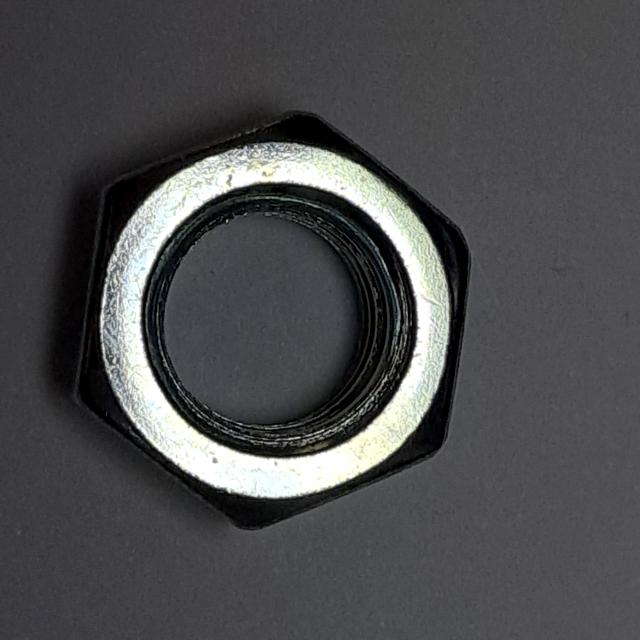Excellent: (53, 96, 483, 547)
